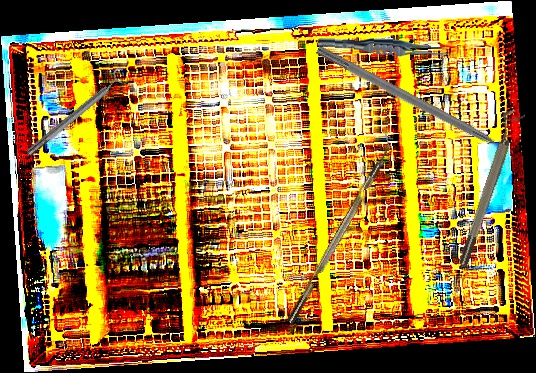Chopper: (277, 129, 401, 325)
Fixation Ring: (449, 106, 526, 269), (20, 64, 134, 162)
Hook Surgical: (314, 44, 521, 163)
Tissue Forceps: (317, 34, 449, 60)
